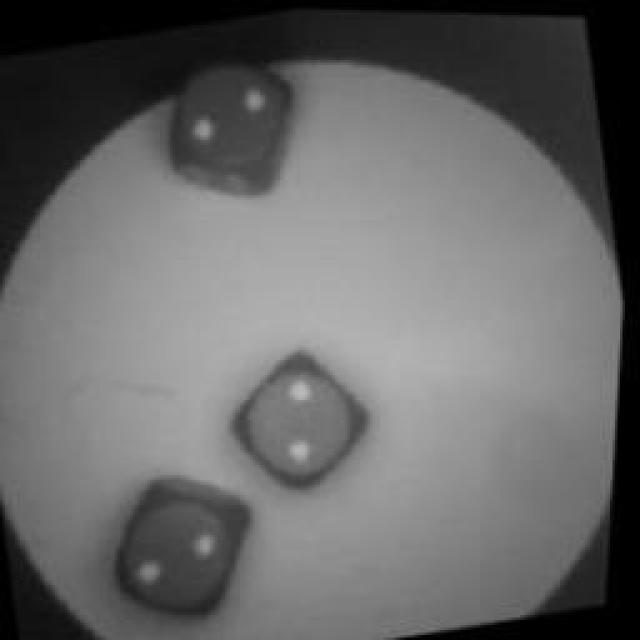dice_2: (158, 40, 308, 190), (116, 480, 262, 622), (232, 346, 376, 489)
